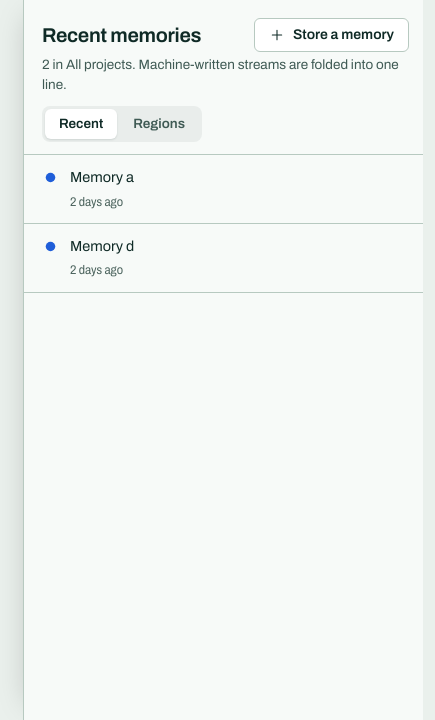
Scenario: MapSheet: Regions › says the regions come with the map while it is charted
The image size is (435, 720).
Step 1. Click the button "Regions" → {"x": 159, "y": 124}, box [119,109,199,139]
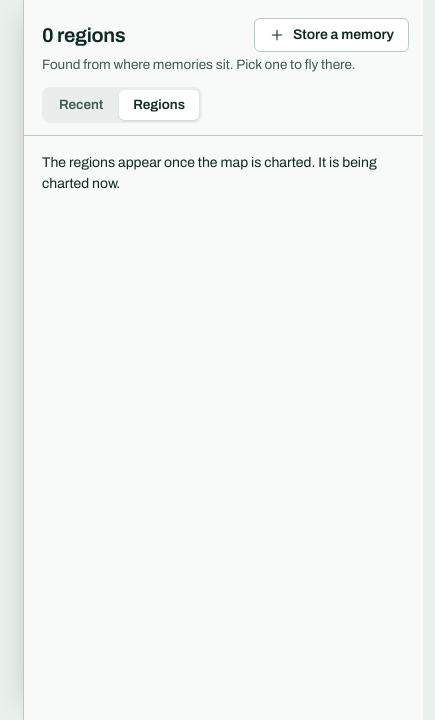
Result: the text "It is being charted now" is shown at [42,155,377,191]
